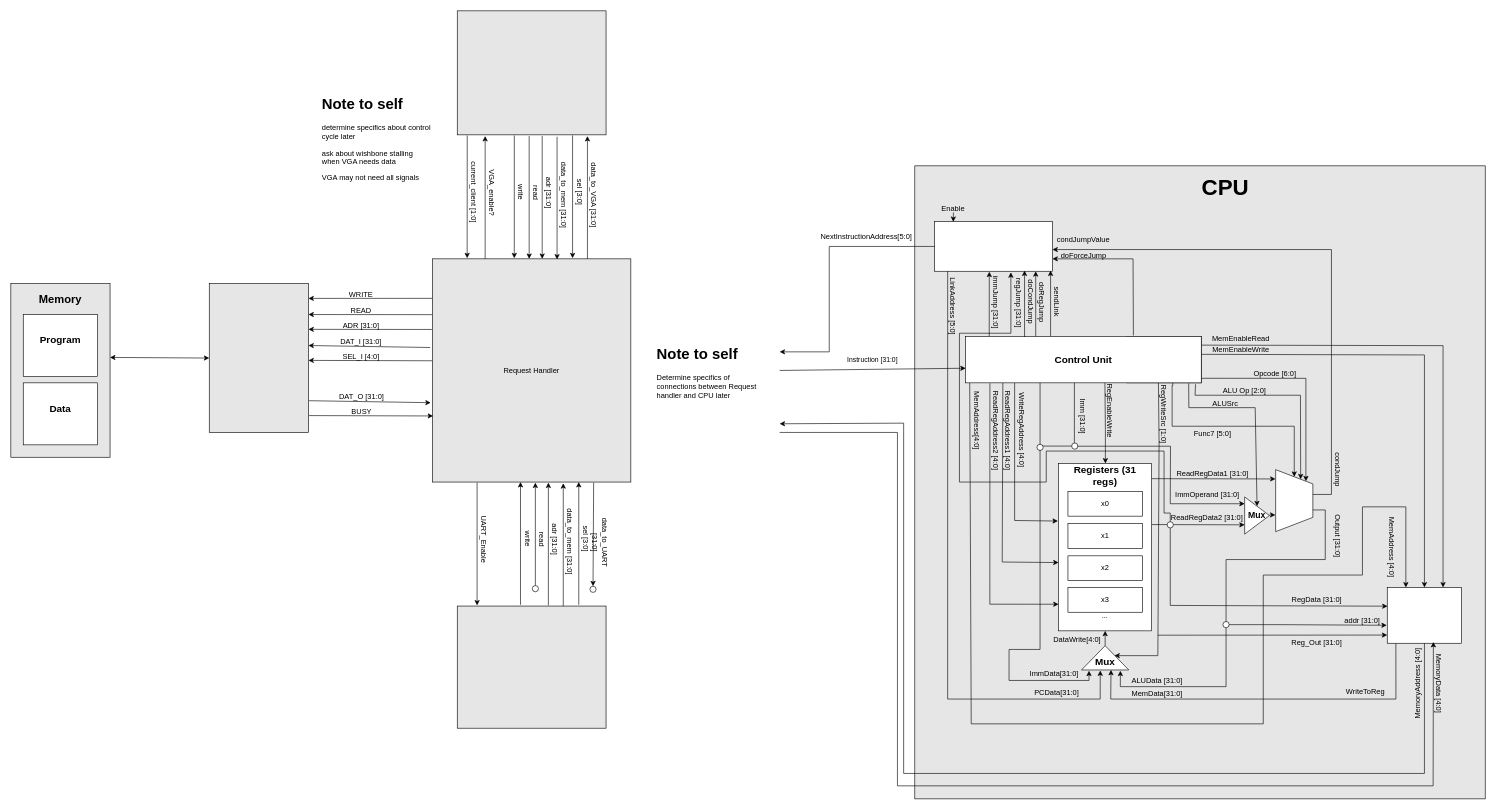
The diagram is 1496 pixels wide and 810 high, and some of its shapes have lost their labels. Each missing label, with the centre of its shape:
"ALU" belongs at [1294,500].
"Memory Handler" belongs at [1424,615].
"Program Counter" belongs at [993,246].
"UART Receiver" belongs at [531,666].
"VGA Encoder" belongs at [531,72].
"Wishbone Manager" belongs at [258,357].
